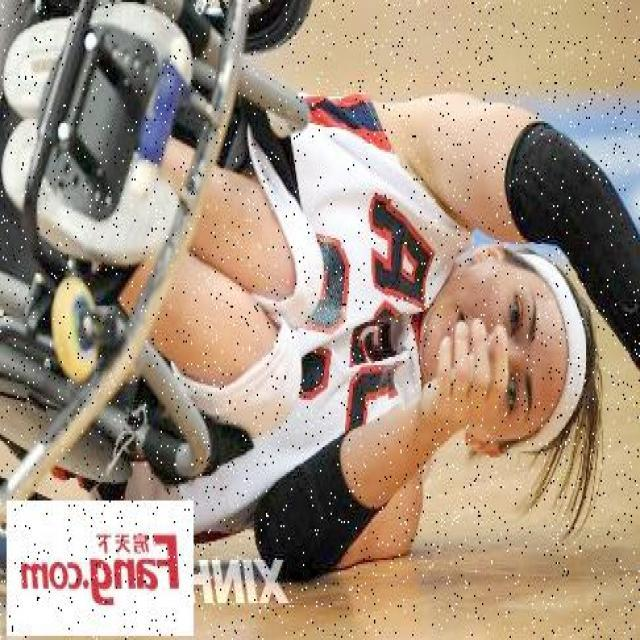fall: (79, 17, 631, 580)
